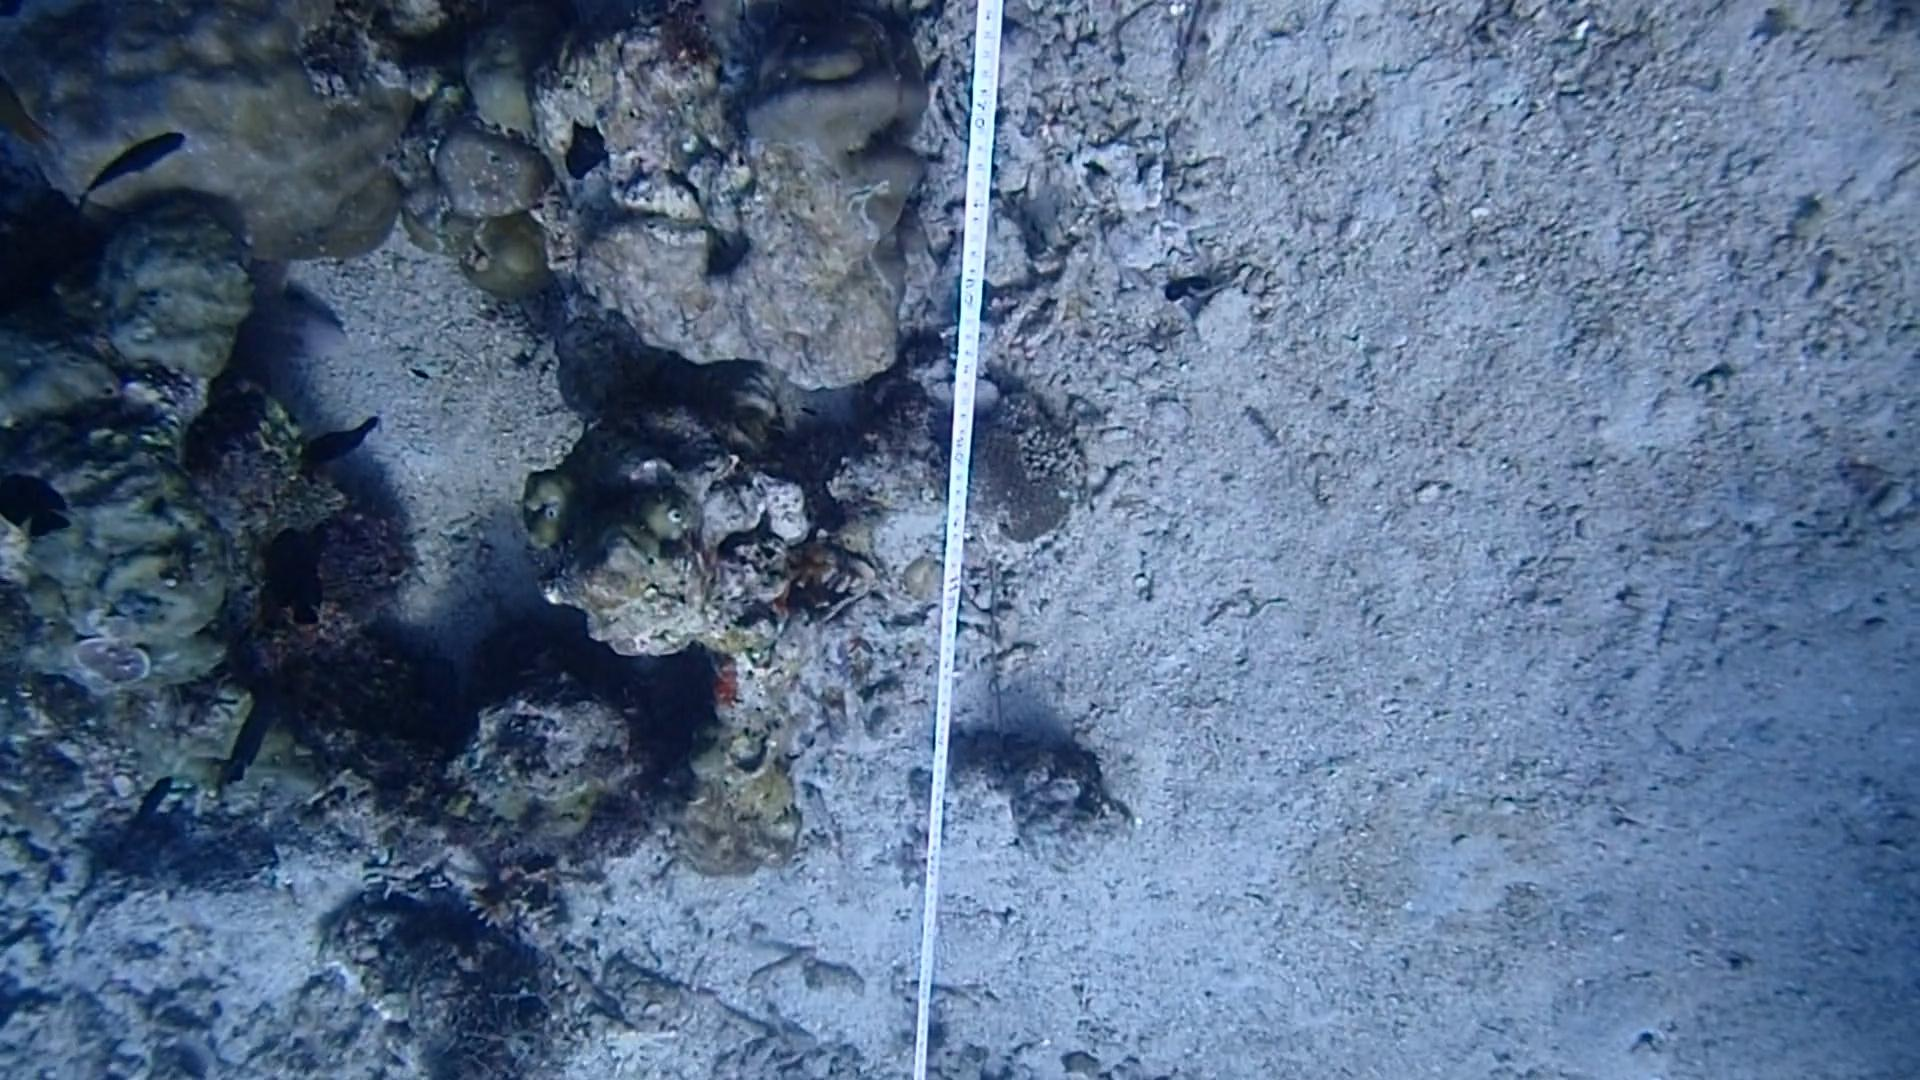Dark Fish: (255, 529, 343, 644), (82, 125, 203, 204), (211, 694, 287, 793), (116, 769, 175, 886), (291, 409, 389, 480), (0, 479, 82, 553)
